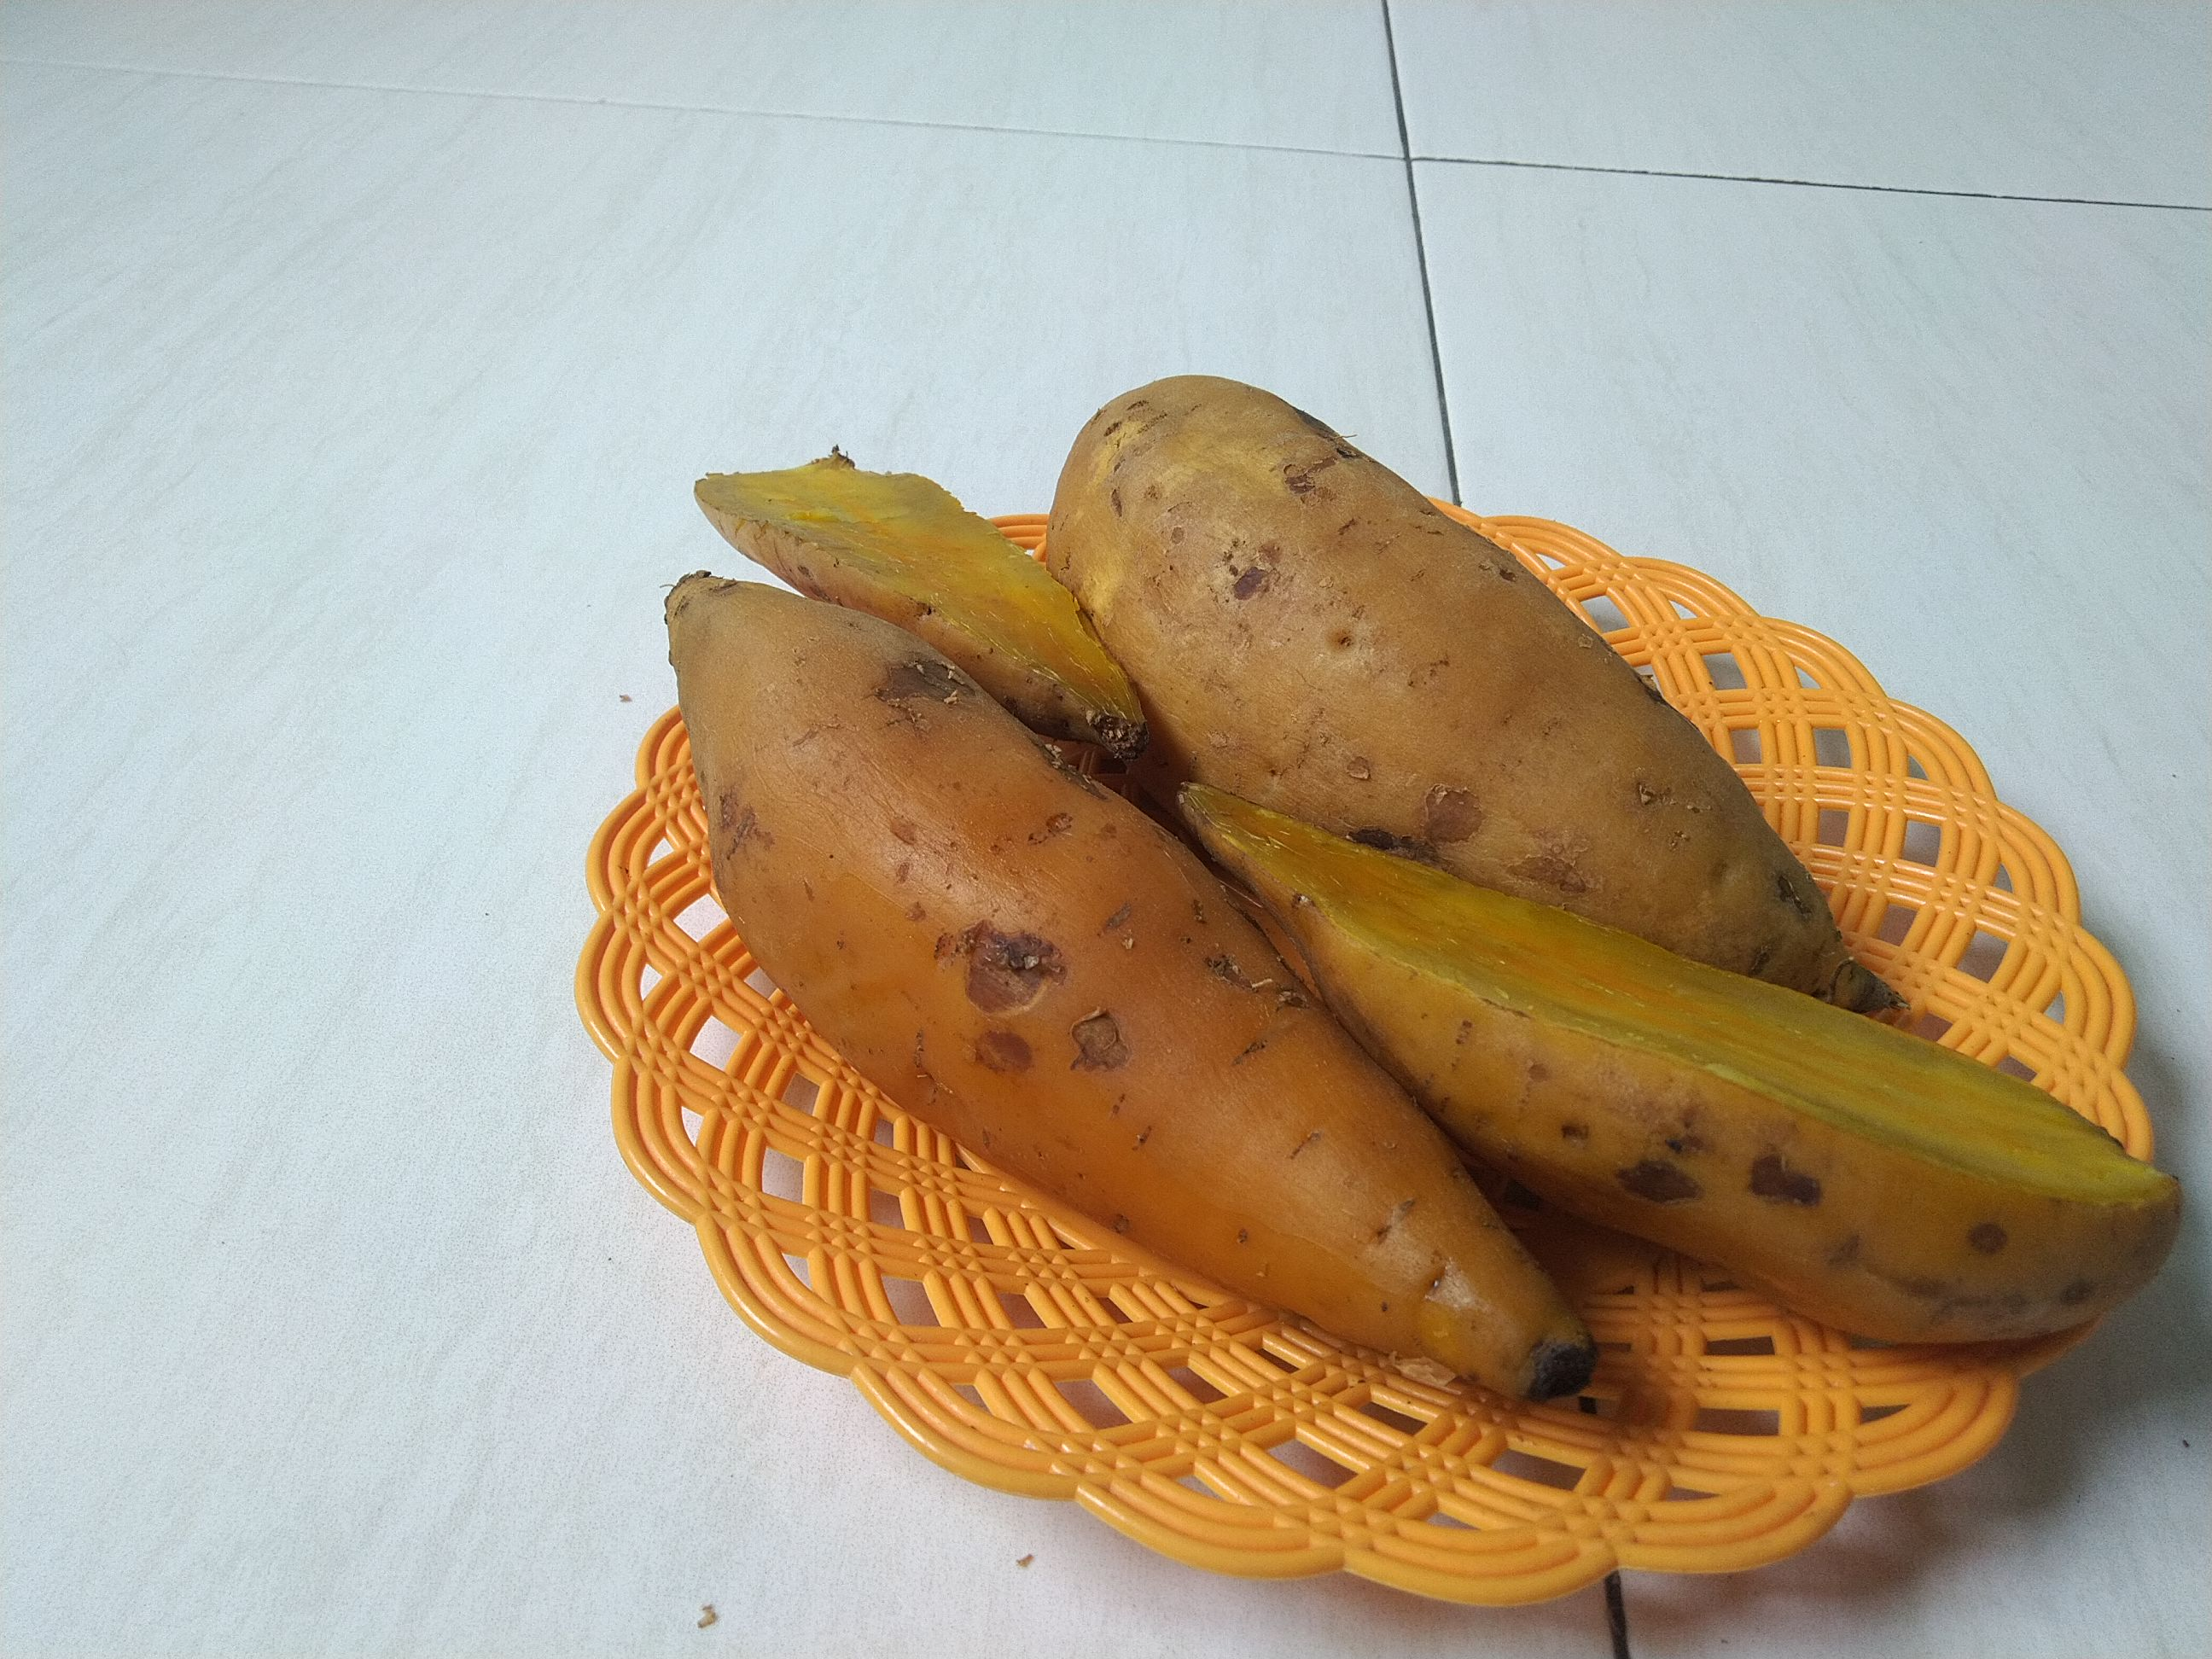ubi cilembu: (651, 568, 1615, 1436), (1026, 359, 1942, 1051), (1183, 770, 2193, 1361), (688, 432, 1162, 755)
